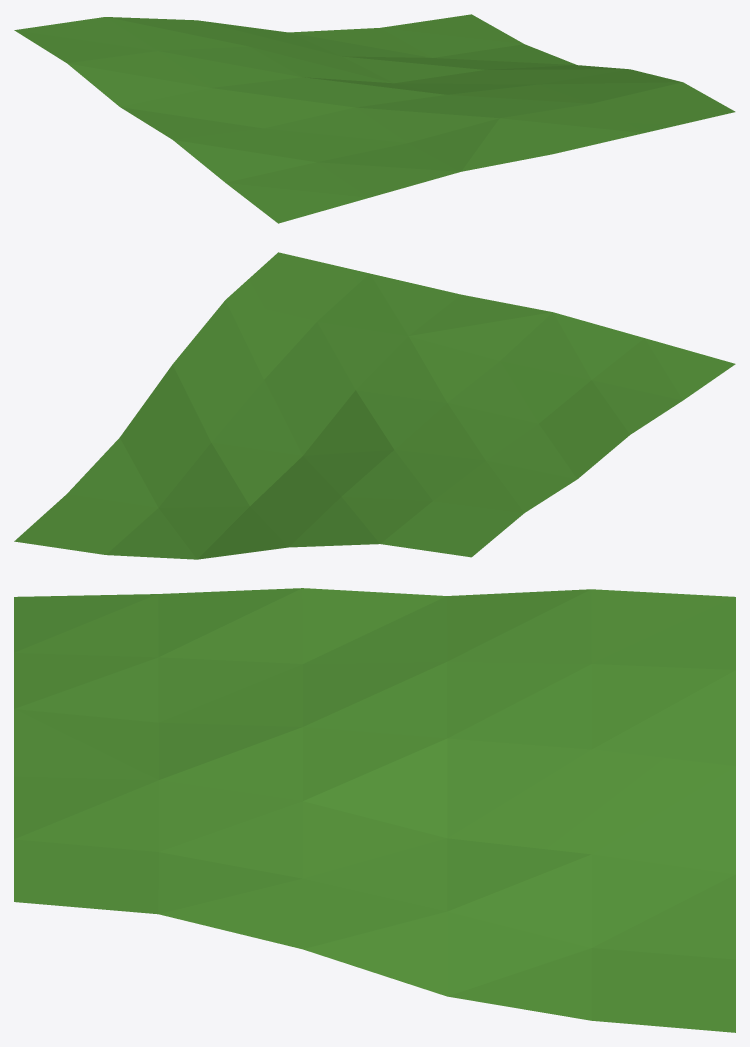
File: terrain-plane-valley2.glb
3 views of the same model, one above another, from view 1: azimuth 30°, elevation 25°; view 2: azimuth 150°, elevation 25°; view 3: azimuth 270°, elevation 25° (orthographic). The views are drawn at different scales.
Parts seen in each view (by area): view 1: terrain-plane-valley2; view 2: terrain-plane-valley2; view 3: terrain-plane-valley2.
Part boxes in pixels (<box>): terrain-plane-valley2: <box>14,14,735,223</box>; terrain-plane-valley2: <box>14,252,735,559</box>; terrain-plane-valley2: <box>14,588,735,1032</box>.
Size of the model in its own units: 30 by 6.45 by 30.
1 material, 1 textured.
